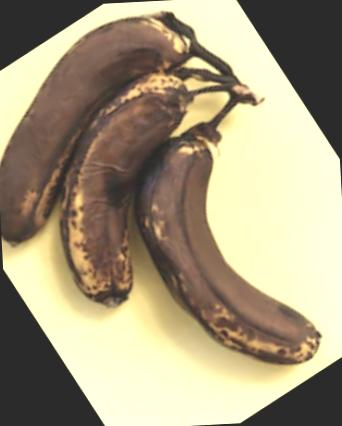Banana Overripe: (0, 0, 342, 391)
